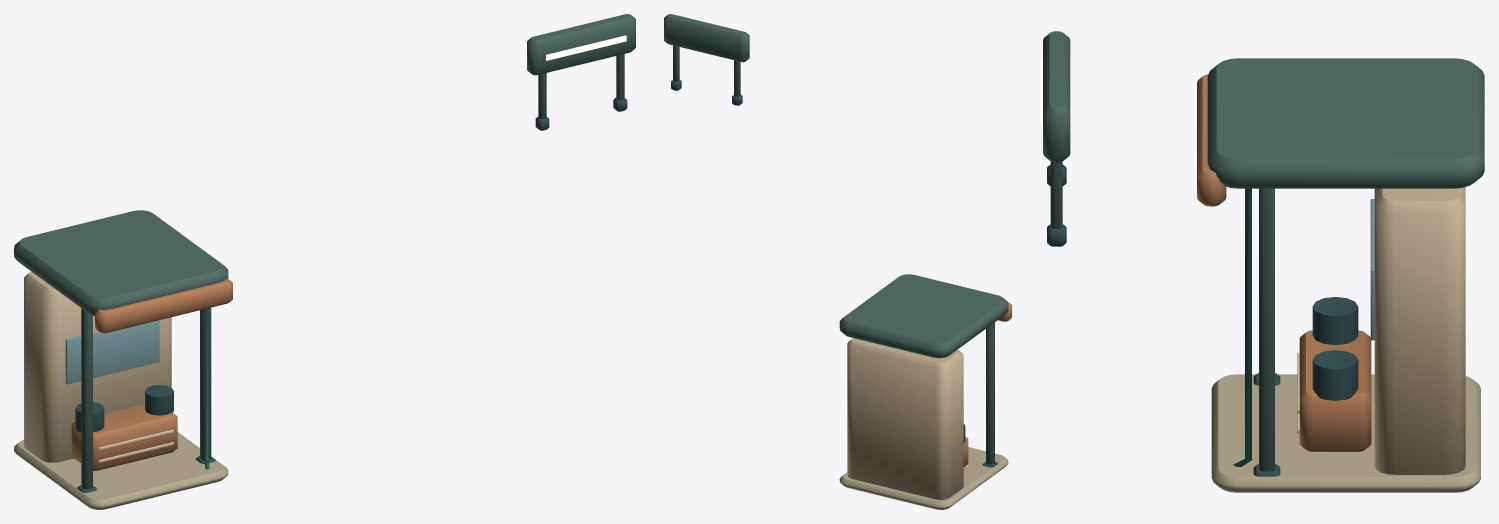
The model's file is wilderness_truck_service_4.glb.
The picture shows the model from 3 angles, left to right: view 1: azimuth 30°, elevation 25°; view 2: azimuth 150°, elevation 25°; view 3: azimuth 270°, elevation 25°; orthographic projection. The views are drawn at different scales.
Visible parts, largest first — view 1: WildernessTruckService4; view 2: WildernessTruckService4; view 3: WildernessTruckService4.
Part boxes in pixels (bbox=[...]): WildernessTruckService4: bbox=[14, 14, 635, 509]; WildernessTruckService4: bbox=[664, 14, 1011, 509]; WildernessTruckService4: bbox=[1040, 31, 1484, 492].
Size of the model in its own units: 8.23 by 6.65 by 4.09.
